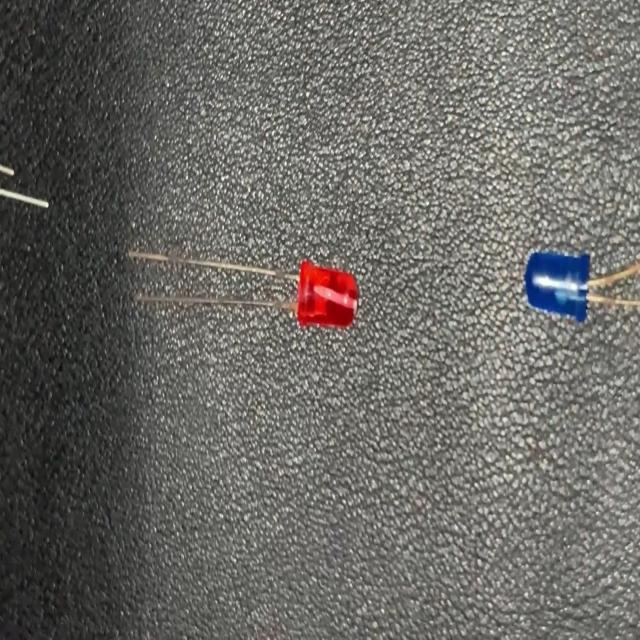LED: (126, 248, 362, 336), (522, 241, 640, 324)
